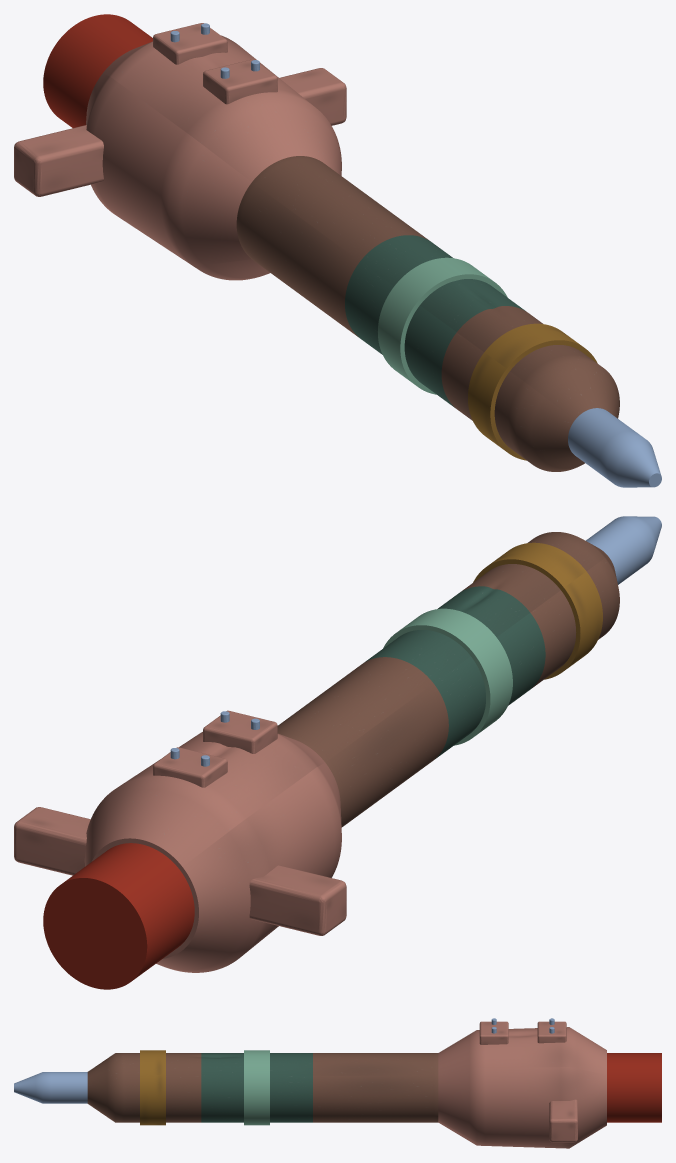
The picture shows the model from 3 angles, top to bottom: view 1: azimuth 30°, elevation 25°; view 2: azimuth 150°, elevation 25°; view 3: azimuth 270°, elevation 25°; orthographic projection. The views are drawn at different scales.
Visible parts, largest first — view 1: Achaean Seizure shaft, Achaean Seizure shoulder, Achaean Seizure rear, Achaean Seizure lateral shoulder 0, Achaean Seizure tip, Achaean Seizure shaft band 0, Achaean Seizure shaft band 1, Achaean Seizure lateral shoulder 1, Achaean Seizure service cover 0, Achaean Seizure service cover 1; view 2: Achaean Seizure shaft, Achaean Seizure shoulder, Achaean Seizure rear, Achaean Seizure lateral shoulder 0, Achaean Seizure shaft band 1, Achaean Seizure shaft band 0, Achaean Seizure lateral shoulder 1, Achaean Seizure tip, Achaean Seizure service cover 0, Achaean Seizure service cover 1; view 3: Achaean Seizure shaft, Achaean Seizure shoulder, Achaean Seizure rear, Achaean Seizure tip, Achaean Seizure shaft band 0, Achaean Seizure shaft band 1, Achaean Seizure lateral shoulder 1, Achaean Seizure service cover 0, Achaean Seizure service cover 1.
Part boxes in pixels (x1=…): Achaean Seizure shaft: x1=236, y1=156, x2=619, y2=471; Achaean Seizure shoulder: x1=86, y1=35, x2=341, y2=280; Achaean Seizure rear: x1=43, y1=14, x2=152, y2=127; Achaean Seizure lateral shoulder 0: x1=14, y1=125, x2=103, y2=196; Achaean Seizure tip: x1=568, y1=408, x2=661, y2=487; Achaean Seizure shaft band 0: x1=468, y1=323, x2=597, y2=460; Achaean Seizure shaft band 1: x1=378, y1=257, x2=507, y2=394; Achaean Seizure lateral shoulder 1: x1=279, y1=68, x2=346, y2=125; Achaean Seizure service cover 0: x1=203, y1=59, x2=277, y2=104; Achaean Seizure service cover 1: x1=153, y1=23, x2=227, y2=64; Achaean Seizure shaft: x1=277, y1=532, x2=619, y2=827; Achaean Seizure shoulder: x1=84, y1=732, x2=341, y2=972; Achaean Seizure rear: x1=43, y1=843, x2=194, y2=989; Achaean Seizure lateral shoulder 0: x1=249, y1=865, x2=346, y2=935; Achaean Seizure shaft band 1: x1=383, y1=608, x2=512, y2=745; Achaean Seizure shaft band 0: x1=473, y1=542, x2=602, y2=679; Achaean Seizure lateral shoulder 1: x1=14, y1=807, x2=90, y2=875; Achaean Seizure tip: x1=586, y1=516, x2=661, y2=584; Achaean Seizure service cover 0: x1=203, y1=710, x2=277, y2=753; Achaean Seizure service cover 1: x1=153, y1=747, x2=227, y2=787; Achaean Seizure shaft: x1=87, y1=1053, x2=438, y2=1122; Achaean Seizure shoulder: x1=438, y1=1027, x2=606, y2=1148; Achaean Seizure rear: x1=607, y1=1053, x2=661, y2=1122; Achaean Seizure tip: x1=14, y1=1072, x2=87, y2=1103; Achaean Seizure shaft band 0: x1=140, y1=1050, x2=165, y2=1125; Achaean Seizure shaft band 1: x1=244, y1=1050, x2=269, y2=1125; Achaean Seizure lateral shoulder 1: x1=549, y1=1099, x2=577, y2=1142; Achaean Seizure service cover 0: x1=479, y1=1021, x2=508, y2=1044; Achaean Seizure service cover 1: x1=537, y1=1021, x2=566, y2=1043.
Bounding box in the file's own units: 0.72 × 0.455 × 2.24.
7 materials, 4 textured.
